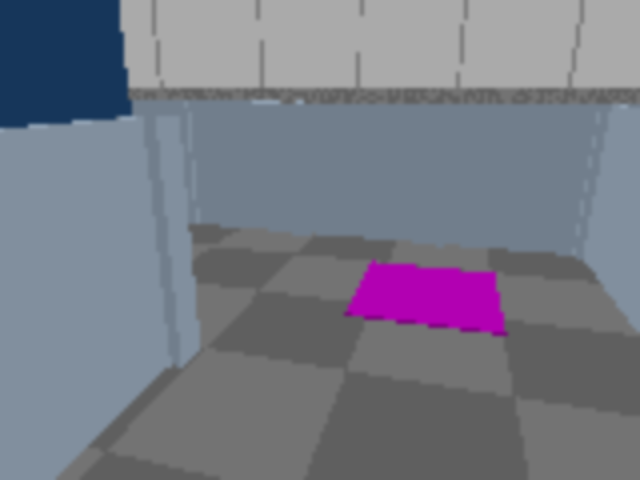goal_zone: (345, 262, 507, 336)
